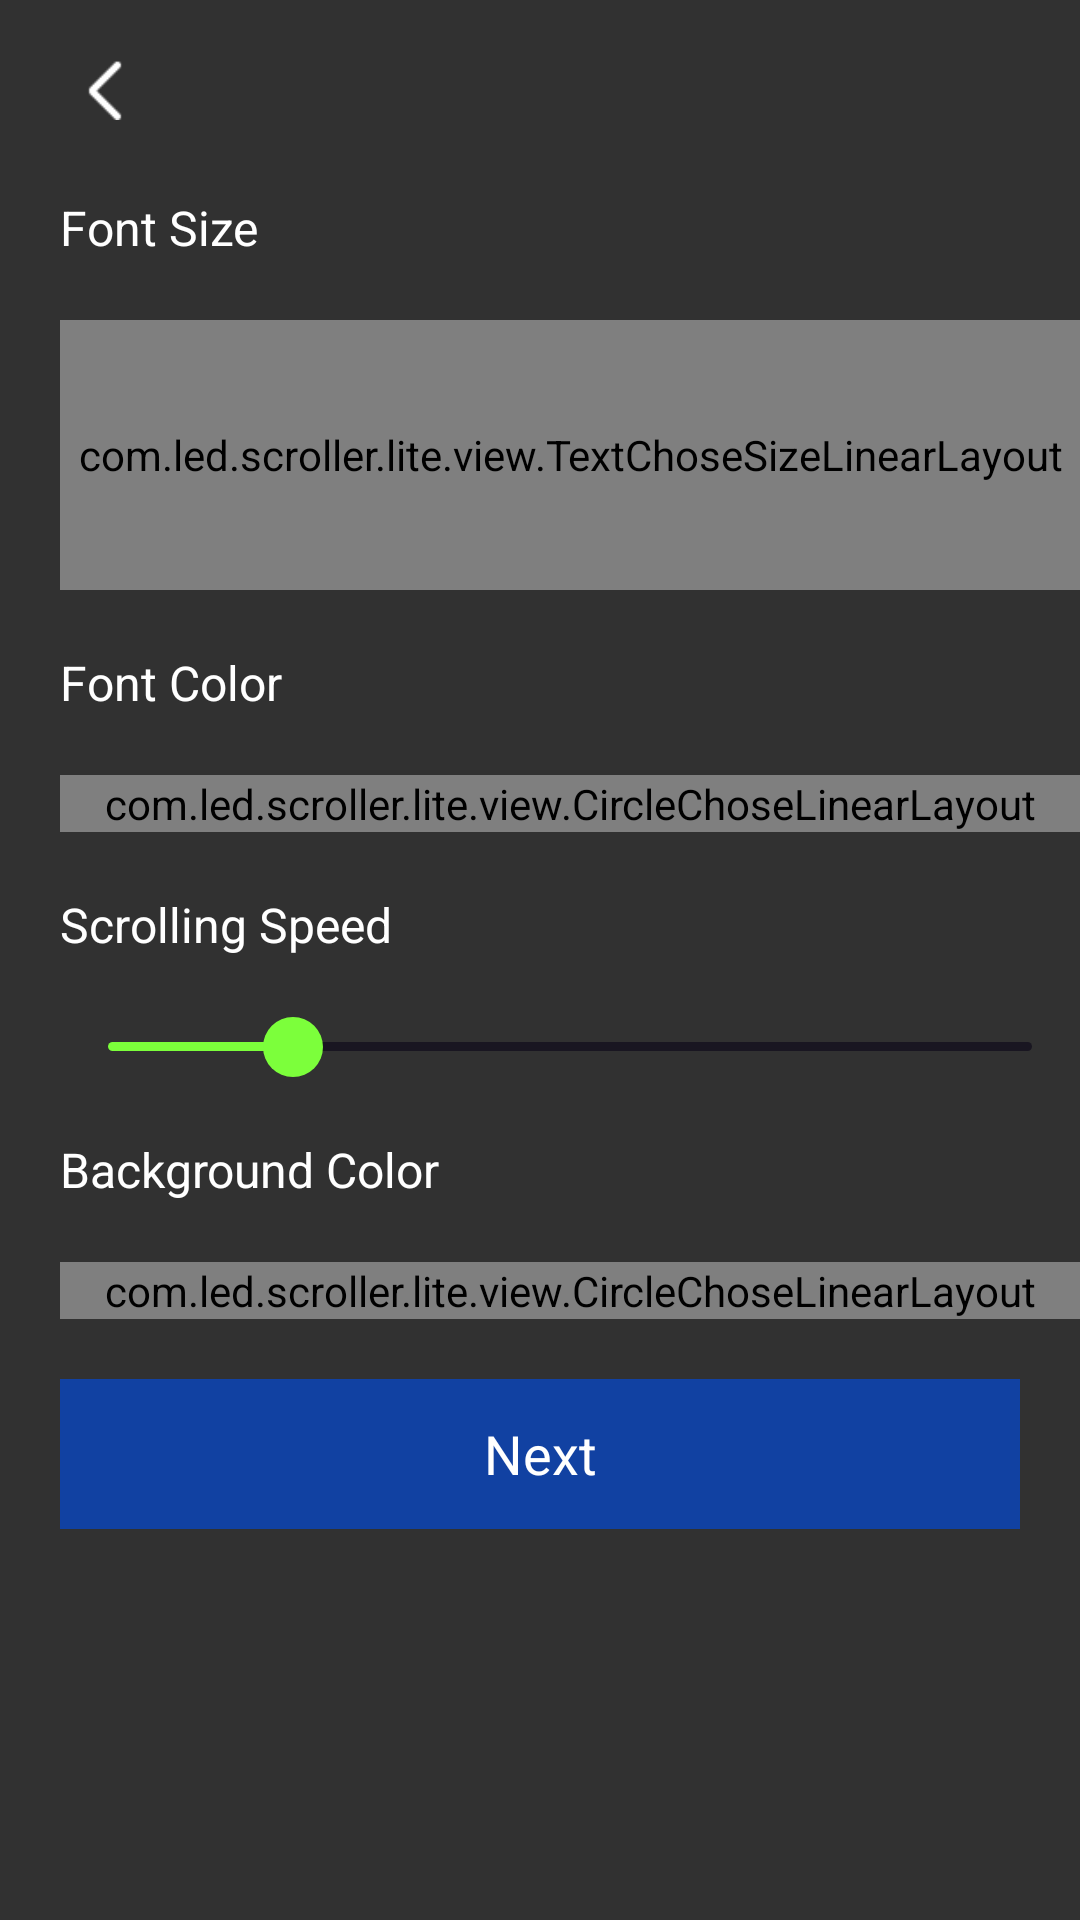

Screen size 1080*1920. Icon name, then its box in pixels as [x1,y1,x2,y2]:
back: [88,61,122,120]
